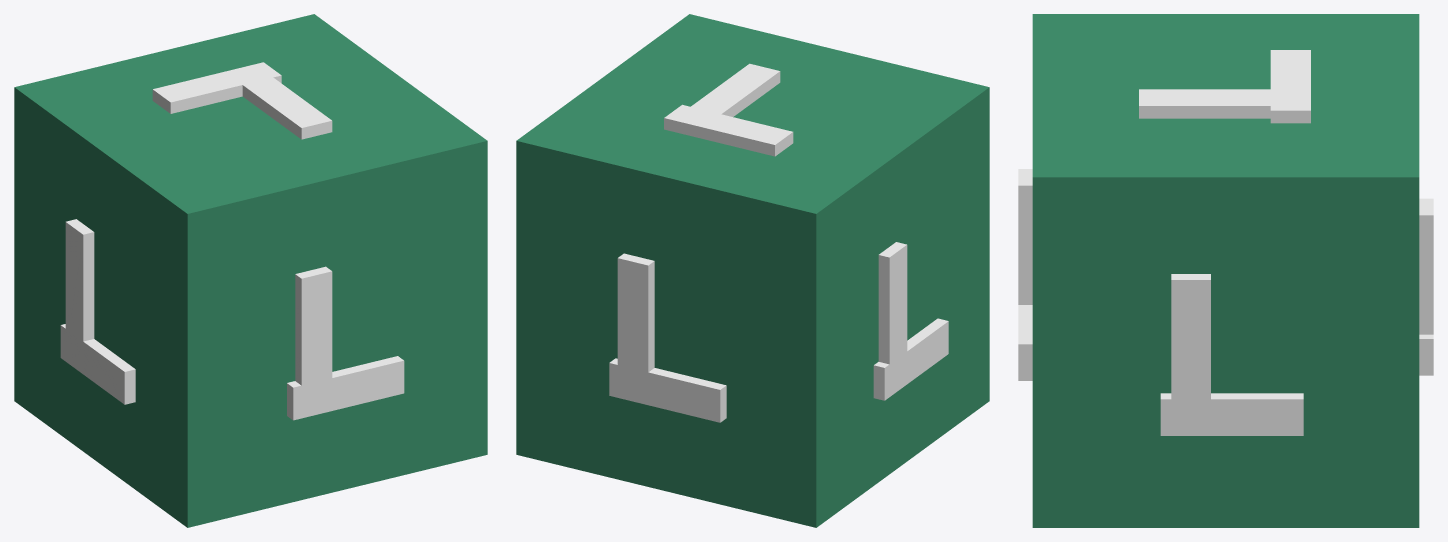
Rendered from DISTRACTOR_6.glb.
The picture shows the model from 3 angles, left to right: view 1: azimuth 30°, elevation 25°; view 2: azimuth 150°, elevation 25°; view 3: azimuth 270°, elevation 25°; orthographic projection. The views are drawn at different scales.
Visible parts, largest first — view 1: DISTRACTOR_HIGH_6; view 2: DISTRACTOR_HIGH_6; view 3: DISTRACTOR_HIGH_6.
Boxes of the visible parts, box(x1,y1,x2,y2) form: DISTRACTOR_HIGH_6: box(14, 14, 487, 527); DISTRACTOR_HIGH_6: box(516, 14, 989, 527); DISTRACTOR_HIGH_6: box(1018, 14, 1433, 527).
Bounding box in the file's own units: 2.15 × 2.15 × 2.15.
